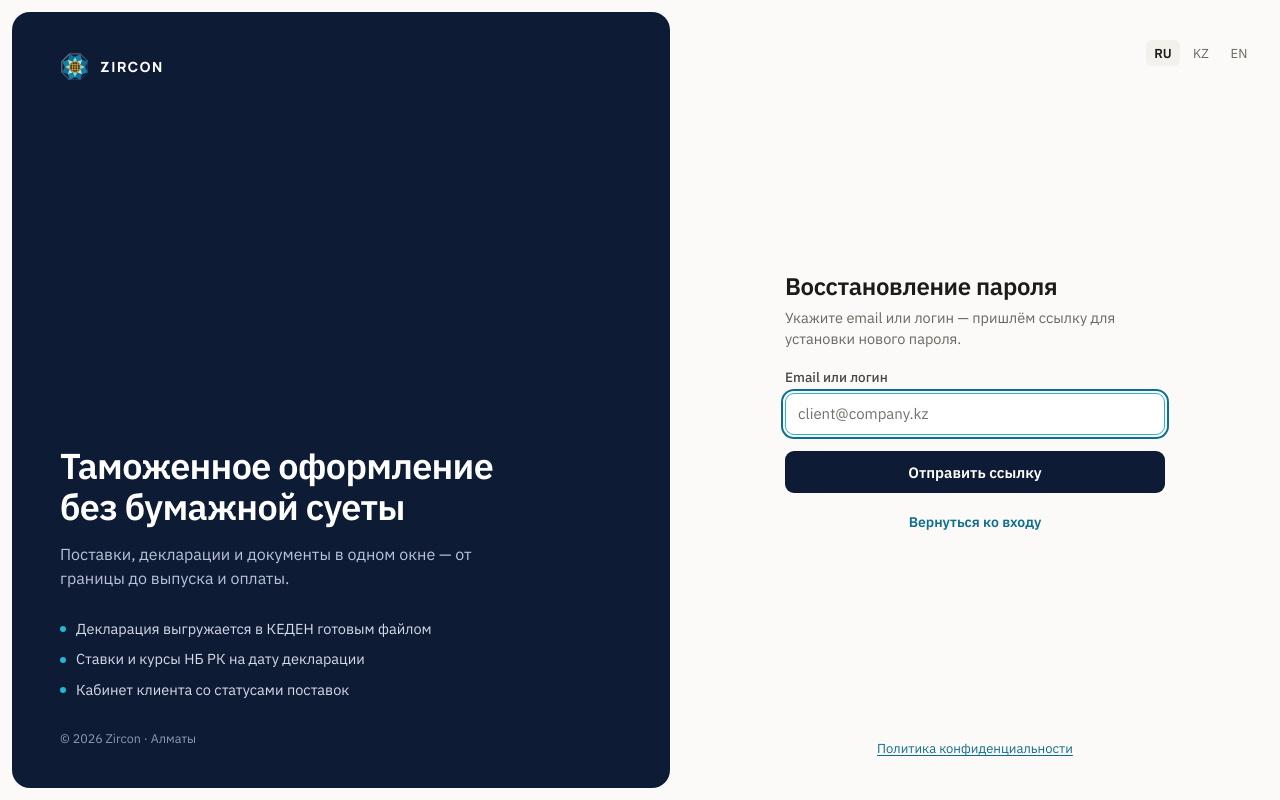
ForgotPasswordView › успех — состояние «отправлено» со ссылкой ко входу
Step 1. Type " office@argyn.kz " into the field labelled "Email или логин" → (975, 414), box [798,403,1152,425]
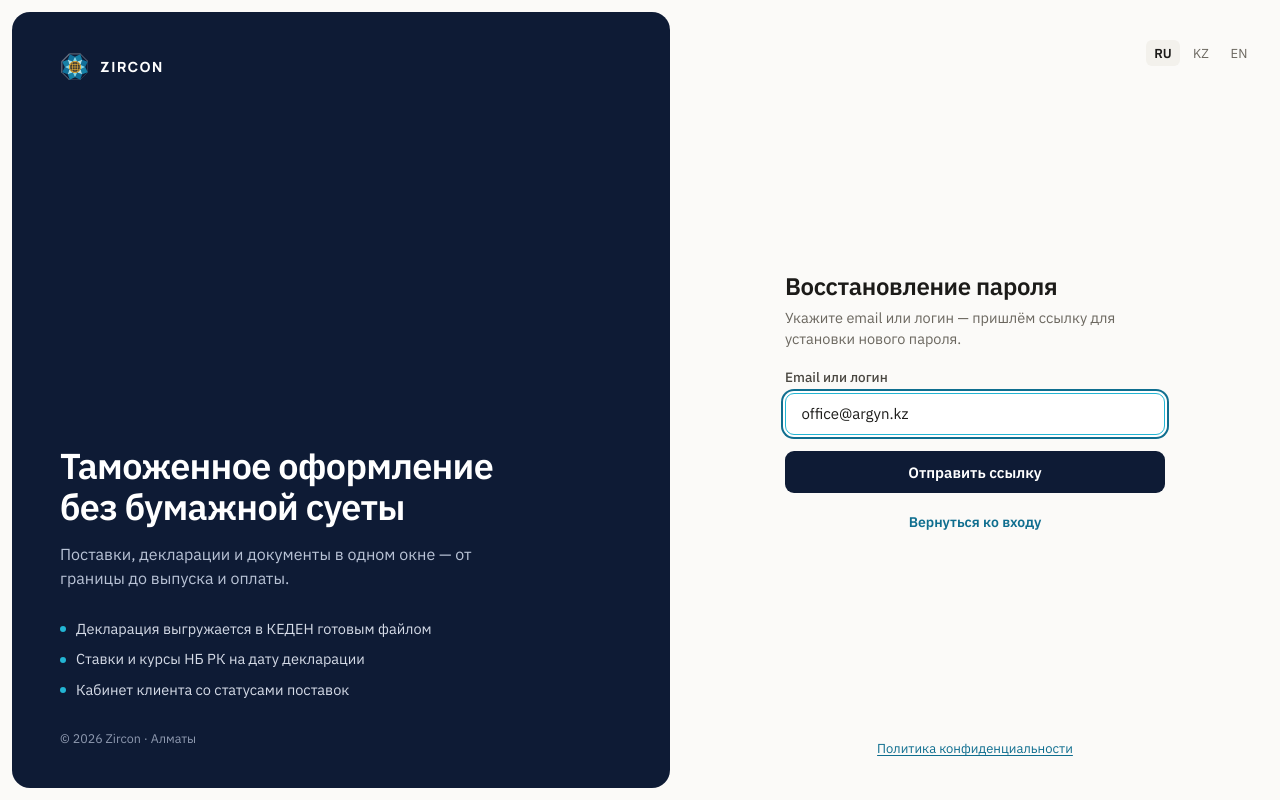
Step 2. Submit the form, box [785,367,1165,493]
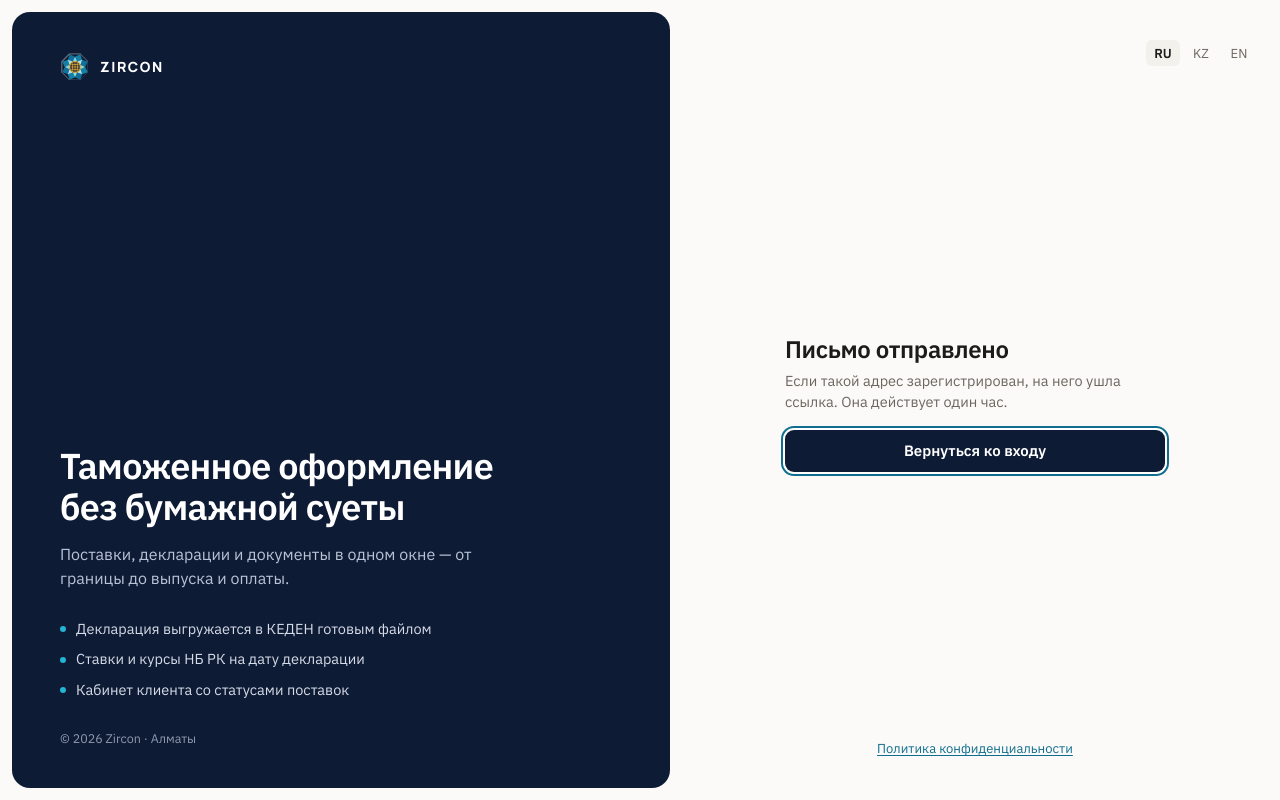
Expected: the link to "/login" reads "Вернуться ко входу", [785,430,1165,472]
Expected: the heading "Письмо отправлено" is shown, [785,333,1009,365]
Expected: the text "Если такой адрес зарегистрирован" is shown, [785,371,1121,411]
